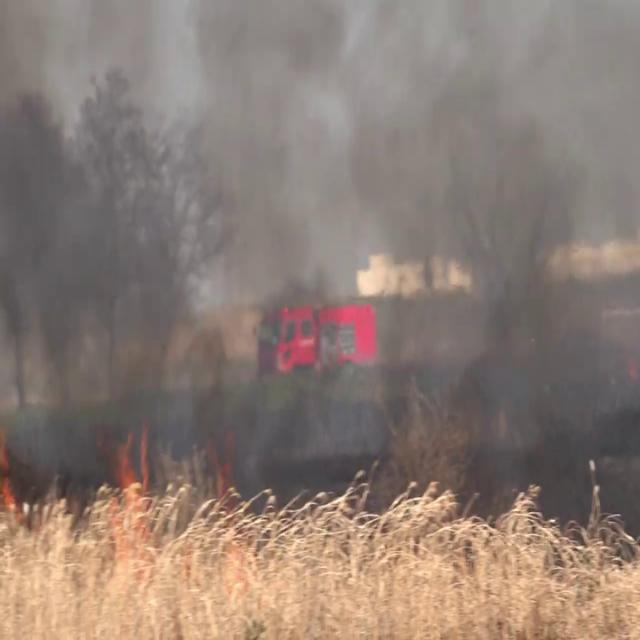Smoke: (1, 1, 640, 467)
